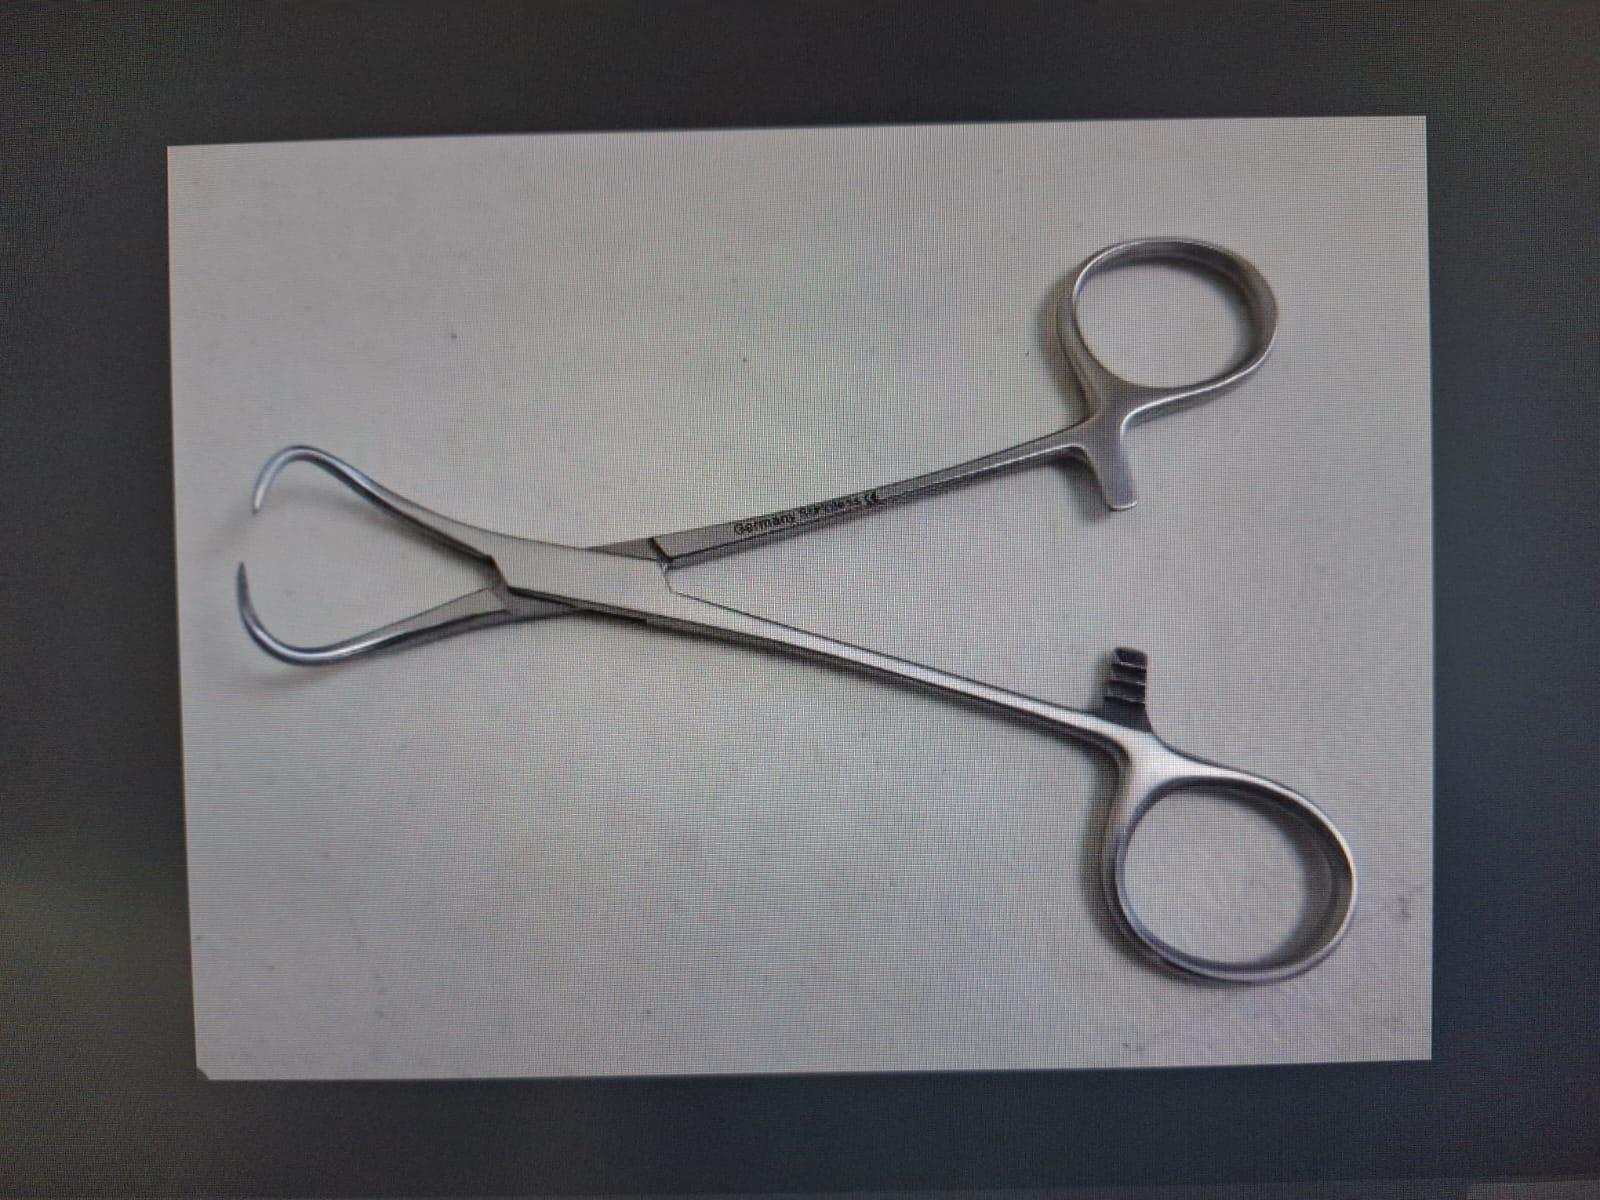Backhaus: (224, 228, 1378, 1008)
